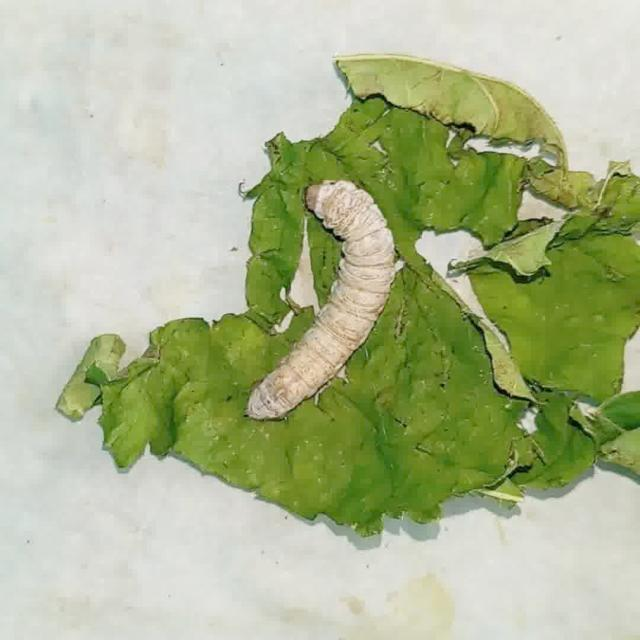Grasserie: (228, 156, 406, 435)
